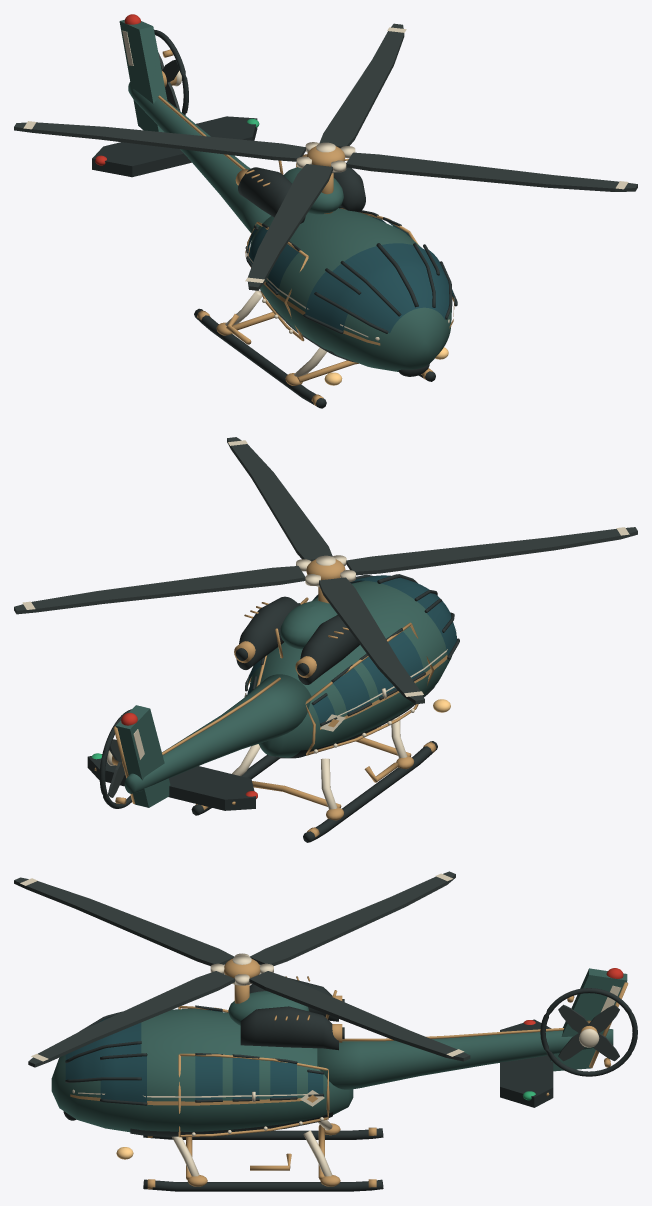
The model's file is helicopter.glb.
3 views of the same model, one above another, from view 1: azimuth 30°, elevation 25°; view 2: azimuth 150°, elevation 25°; view 3: azimuth 270°, elevation 25° (orthographic). The views are drawn at different scales.
Visible parts, largest first — view 1: FuselageShell, ForwardCanopyGlass, MainRotorBlade1, MainRotorBlade3.001, TaperedTailBoom, HorizontalStabilizer, MainRotorBlade3, MainRotorBlade5, TailFin, PilotSideGlass-1, TurbineCowling-1, LandingSkidRail-1 (+4 smaller); view 2: FuselageShell, TaperedTailBoom, MainRotorBlade5, MainRotorBlade3, MainRotorBlade3.001, MainRotorBlade1, HorizontalStabilizer, TailFin, TurbineCowling-1, TurbineCowling1, GearboxFairing, LandingSkidRail-1 (+6 smaller); view 3: FuselageShell, TaperedTailBoom, MainRotorBlade5, MainRotorBlade1, MainRotorBlade3, MainRotorBlade3.001, TurbineCowling1, HorizontalStabilizer, LandingSkidRail1, TailFin, ForwardCanopyGlass, PilotSideGlass1 (+11 smaller).
Boxes of the visible parts, <box> form: FuselageShell: <box>250,208,451,371</box>; ForwardCanopyGlass: <box>332,243,449,333</box>; MainRotorBlade1: <box>346,152,637,191</box>; MainRotorBlade3.001: <box>14,122,305,161</box>; TaperedTailBoom: <box>128,82,270,233</box>; HorizontalStabilizer: <box>92,116,257,177</box>; MainRotorBlade3: <box>247,164,332,290</box>; MainRotorBlade5: <box>319,23,404,148</box>; TailFin: <box>119,19,167,132</box>; PilotSideGlass-1: <box>305,271,360,332</box>; TurbineCowling-1: <box>238,167,305,223</box>; LandingSkidRail-1: <box>194,308,326,408</box>; FuselageShell: <box>250,580,451,757</box>; TaperedTailBoom: <box>124,674,311,793</box>; MainRotorBlade5: <box>14,566,305,614</box>; MainRotorBlade3: <box>346,527,637,575</box>; MainRotorBlade3.001: <box>319,577,424,704</box>; MainRotorBlade1: <box>227,437,332,561</box>; HorizontalStabilizer: <box>87,754,255,810</box>; TailFin: <box>116,705,170,807</box>; TurbineCowling-1: <box>298,615,359,684</box>; TurbineCowling1: <box>236,596,299,669</box>; GearboxFairing: <box>280,600,337,649</box>; LandingSkidRail-1: <box>303,741,437,842</box>; FuselageShell: <box>51,1008,353,1132</box>; TaperedTailBoom: <box>317,1029,613,1089</box>; MainRotorBlade5: <box>249,971,470,1061</box>; MainRotorBlade1: <box>28,971,234,1067</box>; MainRotorBlade3: <box>14,877,234,965</box>; MainRotorBlade3.001: <box>250,871,455,965</box>; TurbineCowling1: <box>240,1006,338,1050</box>; HorizontalStabilizer: <box>500,1019,553,1107</box>; LandingSkidRail1: <box>143,1179,383,1191</box>; TailFin: <box>550,968,627,1071</box>; ForwardCanopyGlass: <box>65,1017,141,1079</box>; PilotSideGlass1: <box>100,1056,146,1102</box>.
Size of the model in its own units: 5.84 by 2.91 by 7.99.
